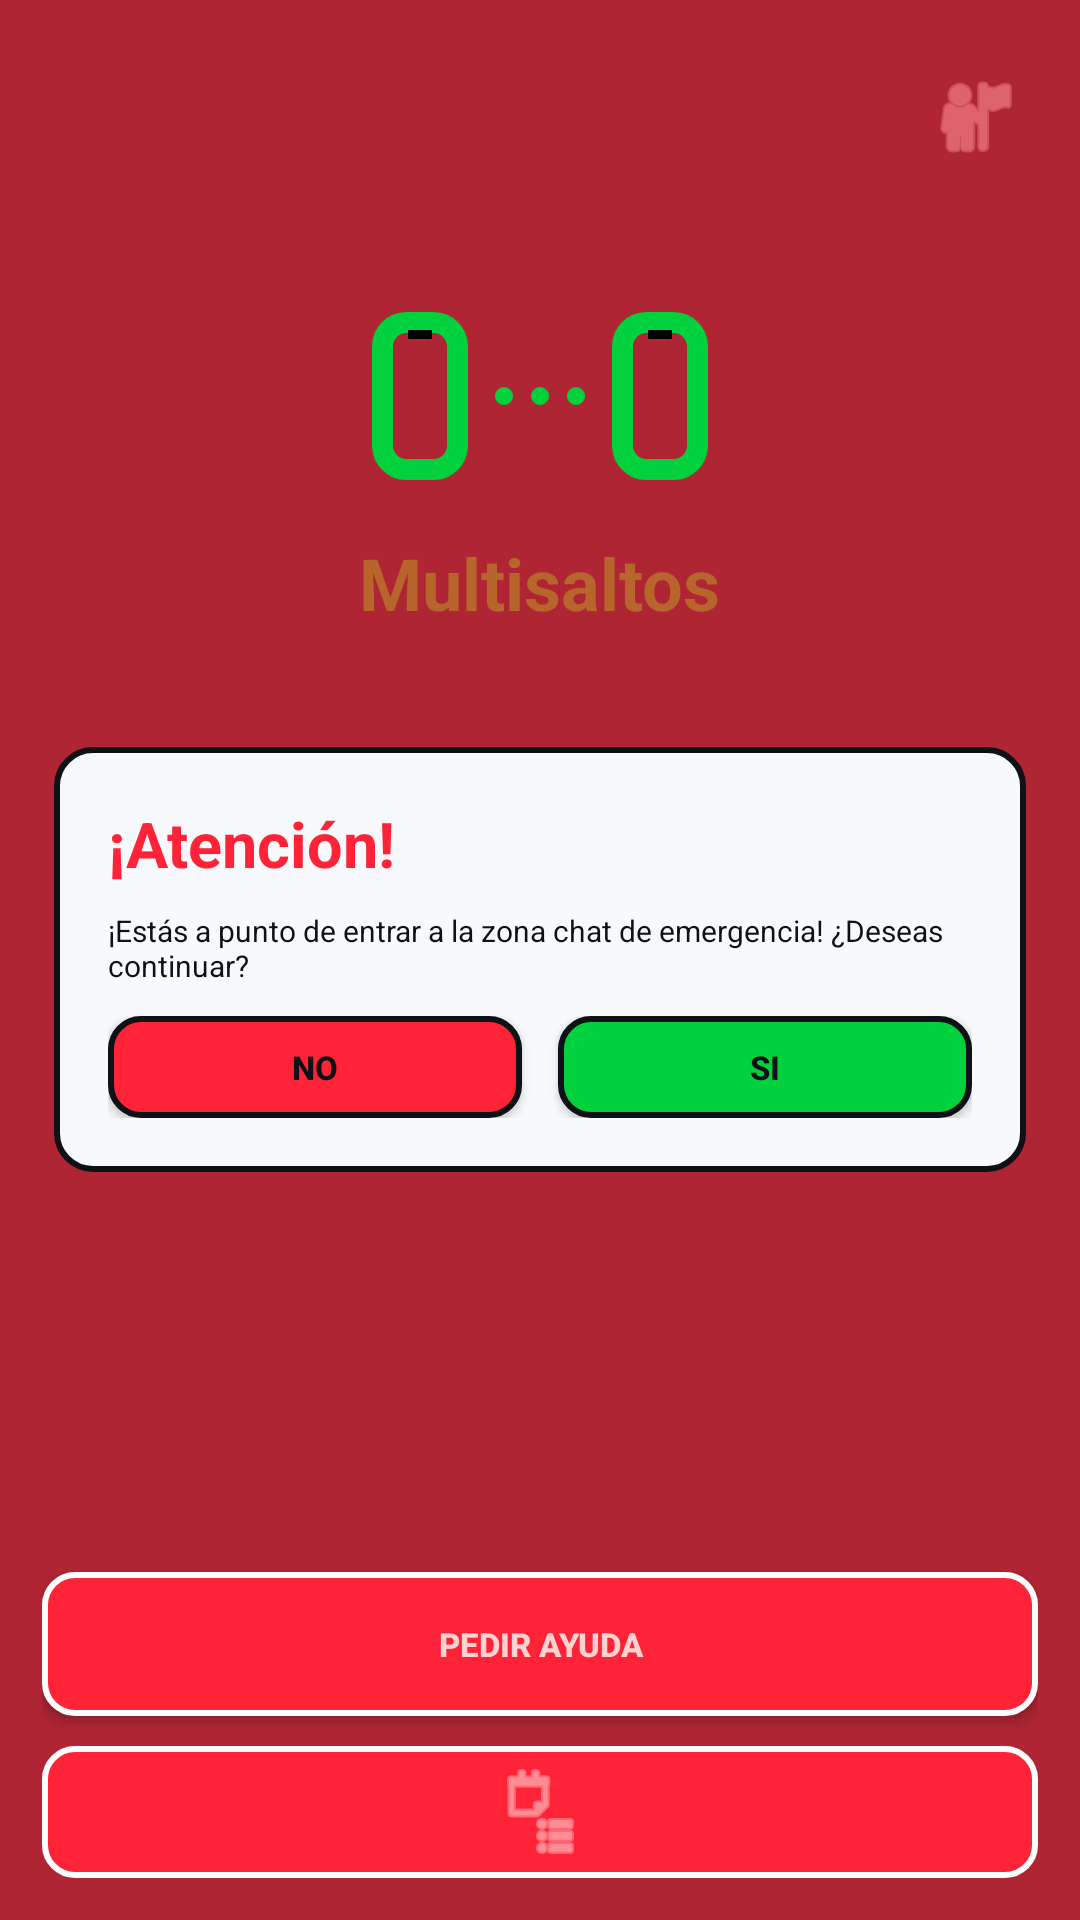

Named icons in this screenshot (1080 × 1920) and their centers, point (x, y):
Perfil: point (976, 117)
